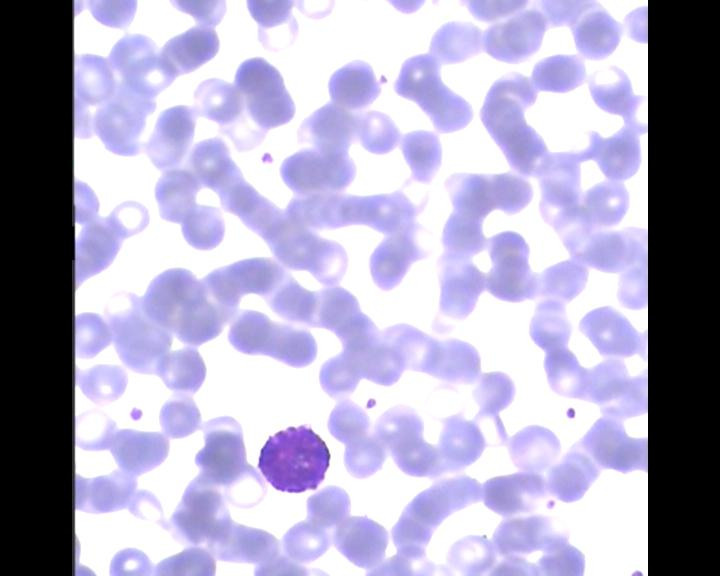baso: (252, 420, 334, 494)
